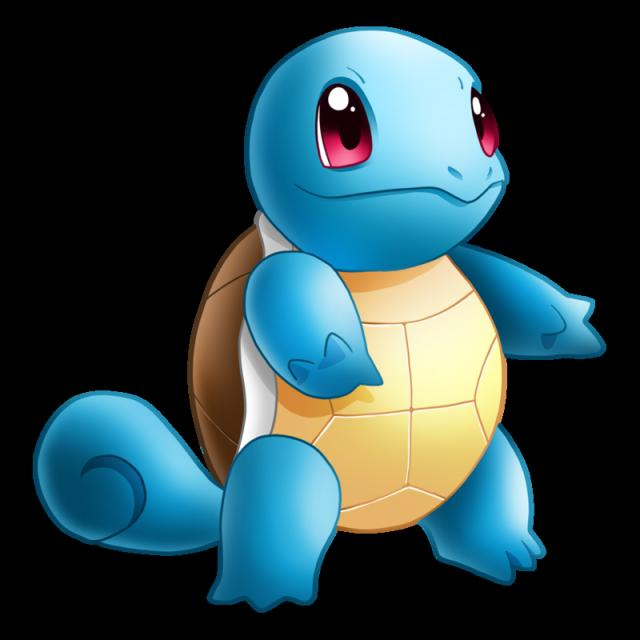Squirtle: (193, 26, 528, 606)
